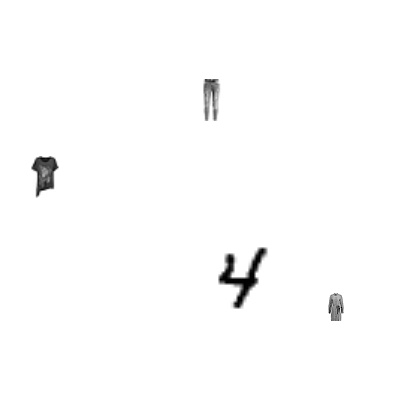4: (198, 233, 282, 317)
Dress: (322, 293, 350, 321)
T-shirt/top: (24, 156, 66, 198)
Trouser: (190, 79, 232, 121)
